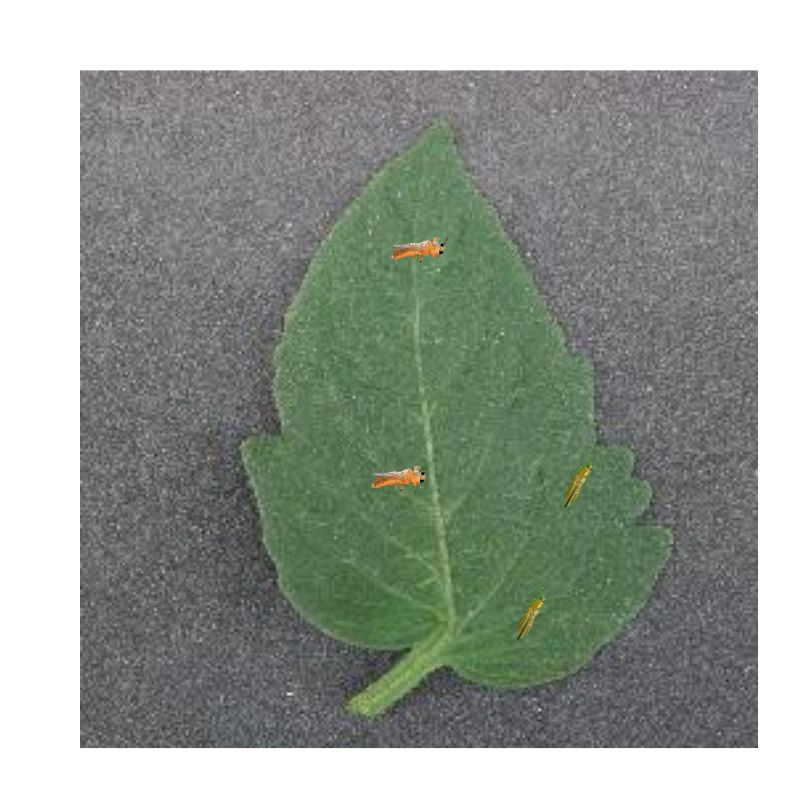thrips: (388, 236, 448, 262), (372, 464, 429, 491), (514, 593, 544, 641), (565, 462, 593, 507)
